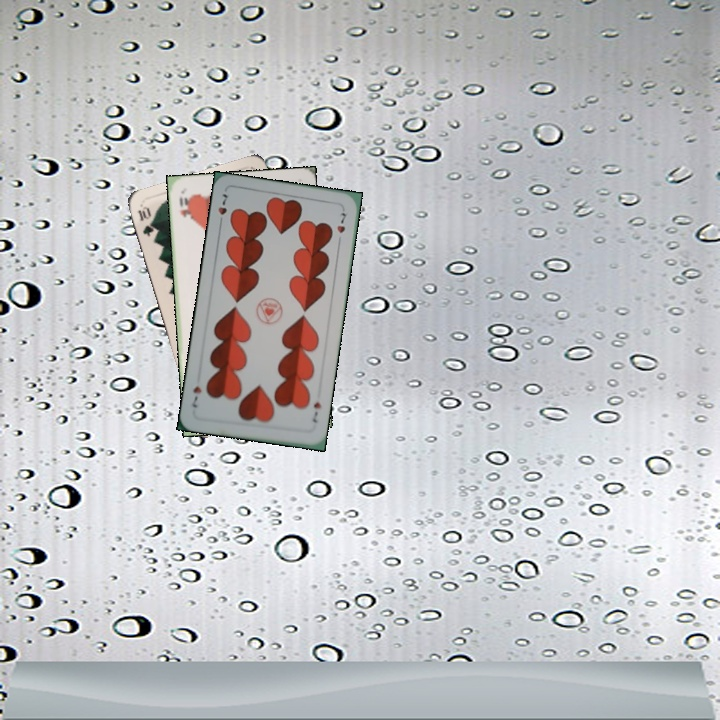G10: (134, 202, 156, 239)
H7: (214, 190, 230, 229), (308, 398, 324, 425)
HO: (175, 193, 193, 223)
